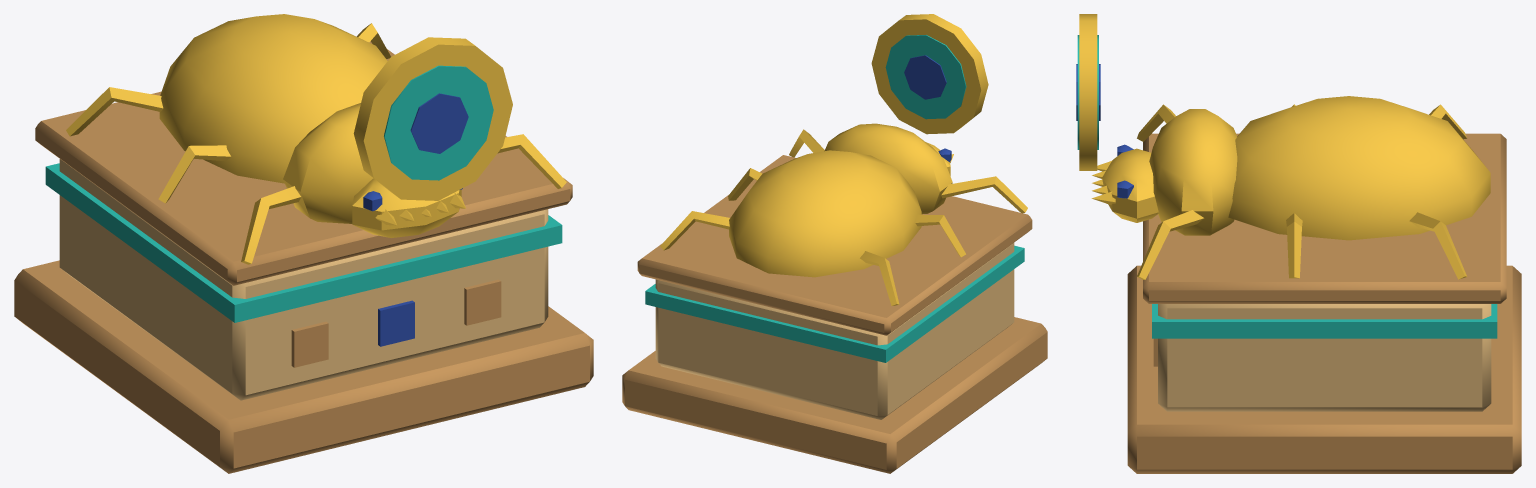
The model's file is scarab_statue.glb.
3 views of the same model, side by side, from view 1: azimuth 30°, elevation 25°; view 2: azimuth 150°, elevation 25°; view 3: azimuth 270°, elevation 25° (orthographic). The views are drawn at different scales.
Visible parts, largest first — view 1: scarab_statue; view 2: scarab_statue; view 3: scarab_statue.
Boxes of the visible parts, <box> form: scarab_statue: <box>14,14,593,473</box>; scarab_statue: <box>622,14,1047,473</box>; scarab_statue: <box>1076,14,1521,473</box>.
Bounding box in the file's own units: 1.3 × 1.36 × 1.47.
